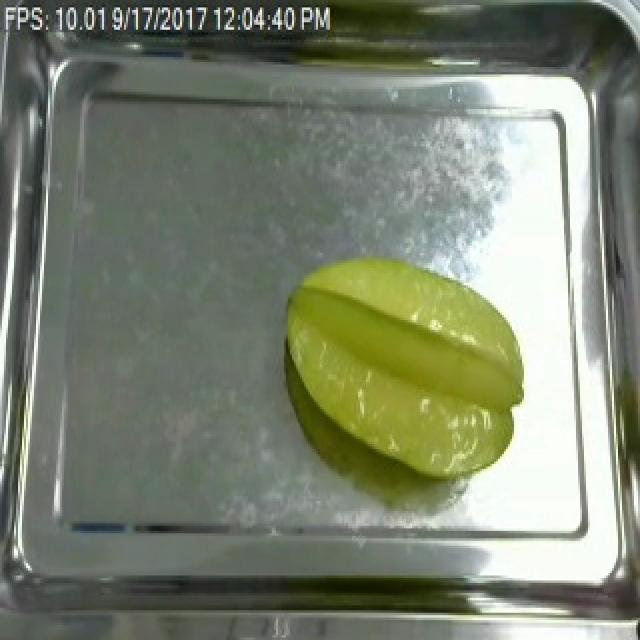fruit: (272, 248, 532, 489)
